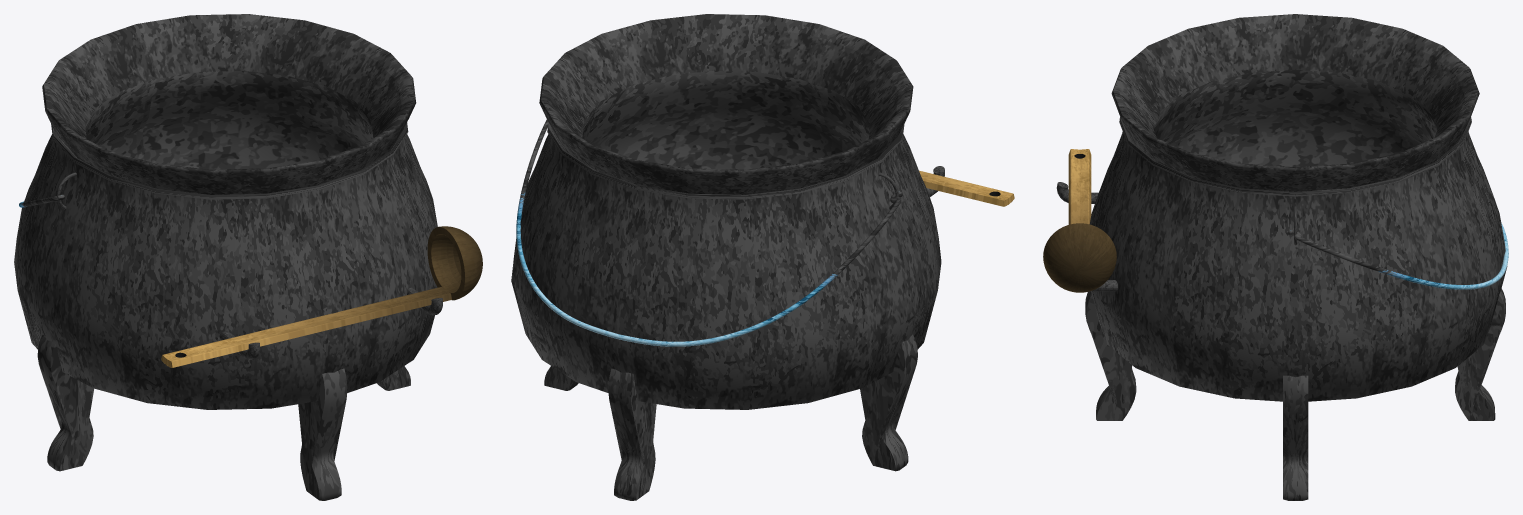
Rendered from MixingCauldron.fbx.
3 renders of one model, left to right at view 1: azimuth 30°, elevation 25°; view 2: azimuth 150°, elevation 25°; view 3: azimuth 270°, elevation 25°, orthographic. The views are drawn at different scales.
Parts seen in each view (by area): view 1: pSphere1, ladel1, polySurface4, polySurface5; view 2: pSphere1, polySurface7, polySurface5, pCylinder5, ladel1; view 3: pSphere1, ladel1, polySurface6, polySurface4, polySurface7, pCylinder5.
Boxes of the visible parts, box(x1,y1,x2,y2) form: pSphere1: box(14, 14, 437, 409); ladel1: box(161, 226, 482, 367); polySurface4: box(298, 368, 347, 500); polySurface5: box(37, 335, 93, 471); pSphere1: box(511, 14, 941, 409); polySurface7: box(608, 368, 656, 500); polySurface5: box(860, 334, 917, 471); pCylinder5: box(516, 119, 902, 346); ladel1: box(919, 170, 1014, 206); pSphere1: box(1089, 14, 1507, 401); ladel1: box(1043, 149, 1116, 292); polySurface6: box(1283, 375, 1308, 500); polySurface4: box(1085, 291, 1136, 420); polySurface7: box(1455, 288, 1505, 420); pCylinder5: box(1288, 223, 1508, 289).
Size of the model in its own units: 11.31 by 9.59 by 12.44.
